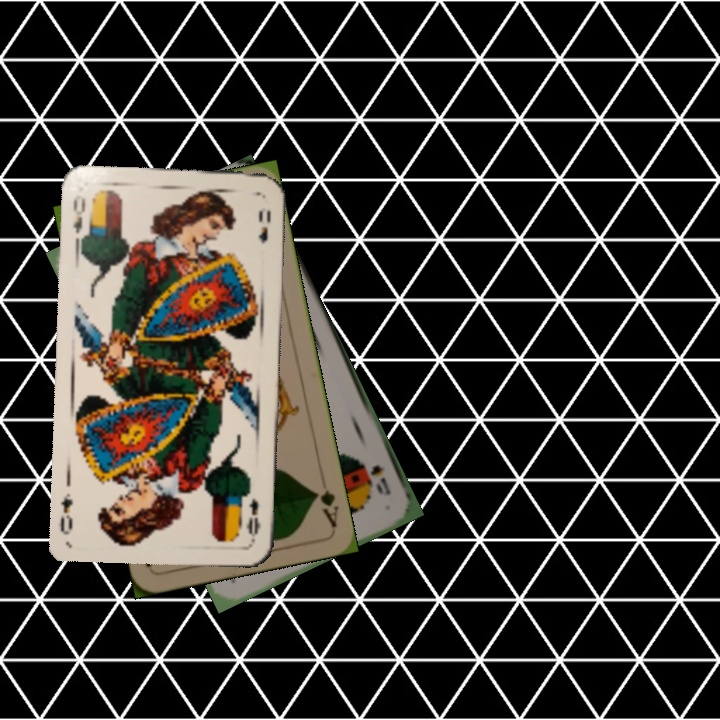EO: (69, 191, 93, 247), (241, 495, 263, 543)
GA: (310, 485, 341, 530)
SO: (366, 460, 394, 498)
